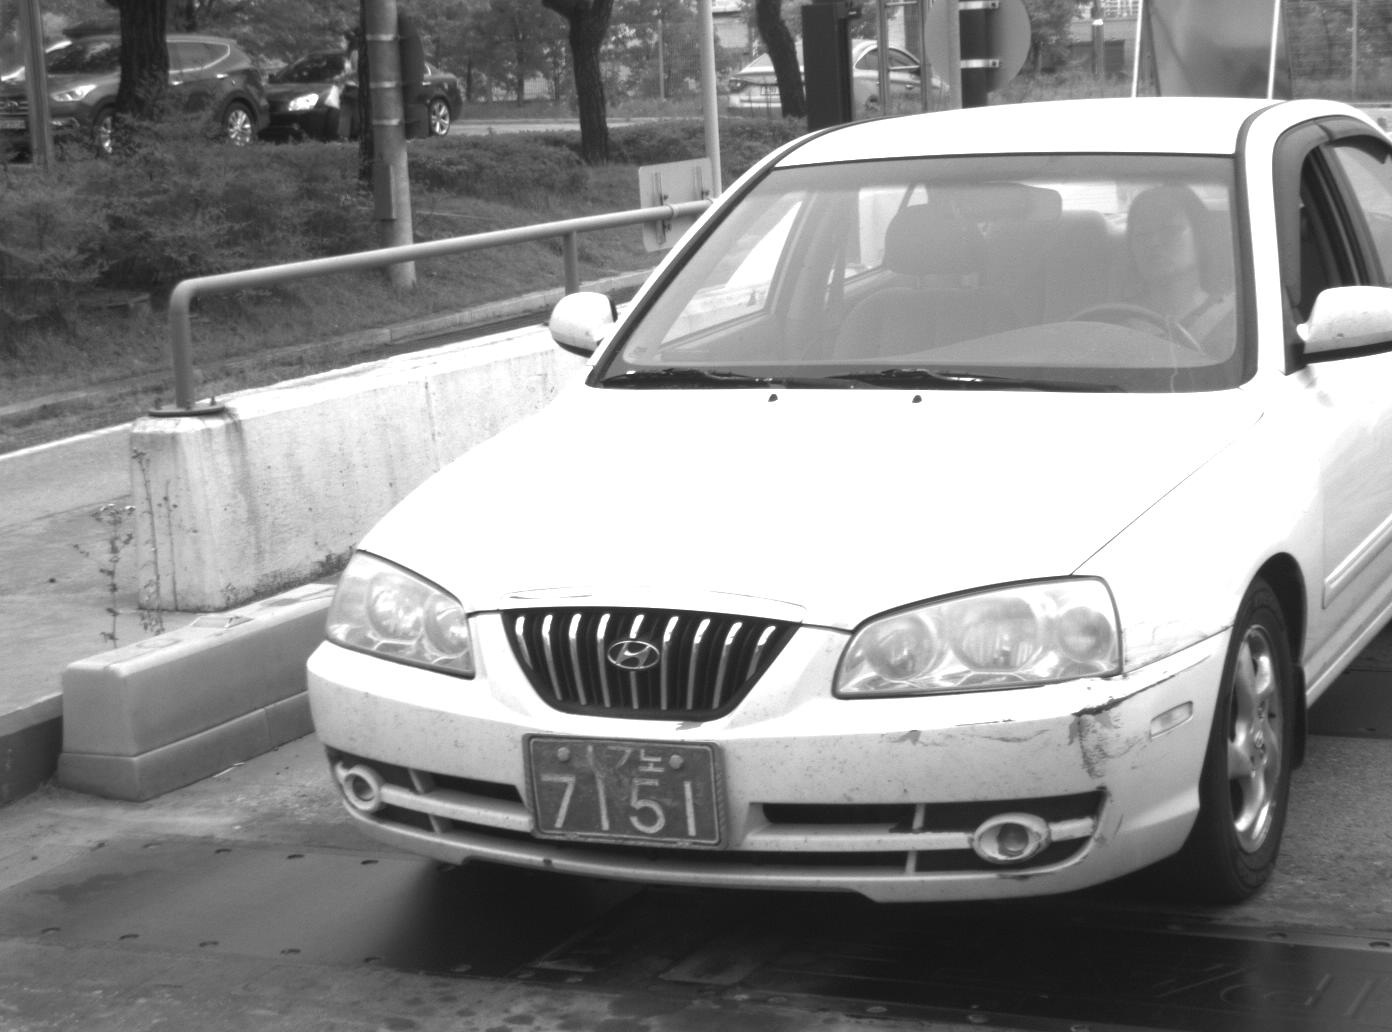car: (302, 90, 1392, 913)
plate: (516, 729, 725, 851)
